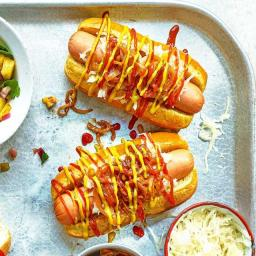hotdog: (64, 22, 216, 129), (55, 133, 195, 234)
